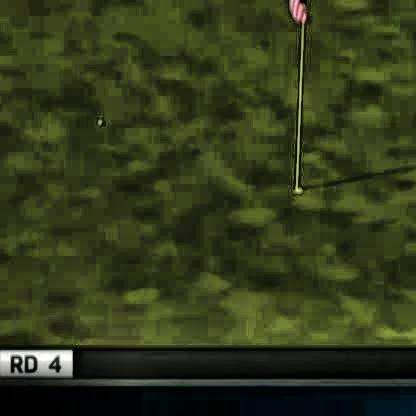golfball: (94, 115, 104, 122)
